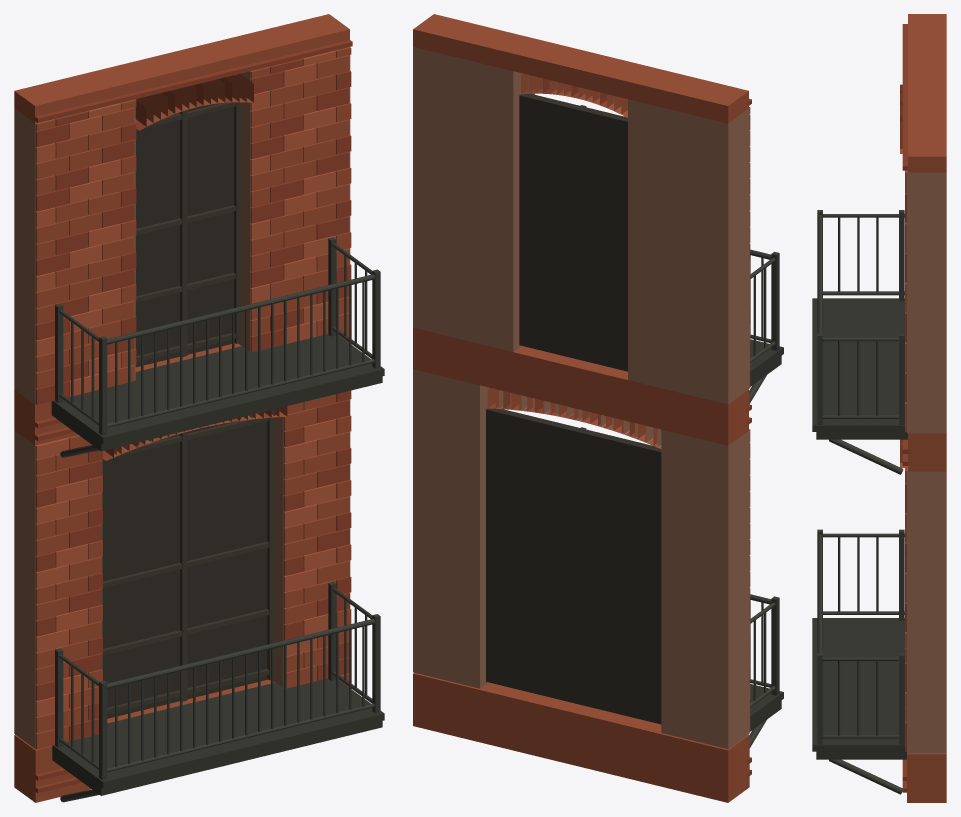
The model's file is jingan-ewo-packing-warehouse-river-balconies-raw.glb.
3 renders of one model, left to right at view 1: azimuth 30°, elevation 25°; view 2: azimuth 150°, elevation 25°; view 3: azimuth 270°, elevation 25°, orthographic. The views are drawn at different scales.
Visible parts, largest first — view 1: 怡和源打包厂沿河立面上下两层铁阳台; view 2: 怡和源打包厂沿河立面上下两层铁阳台; view 3: 怡和源打包厂沿河立面上下两层铁阳台.
Part boxes in pixels (x1,y1,x2,y2): 怡和源打包厂沿河立面上下两层铁阳台: (14, 14, 384, 802); 怡和源打包厂沿河立面上下两层铁阳台: (413, 14, 783, 802); 怡和源打包厂沿河立面上下两层铁阳台: (812, 14, 946, 802).
Size of the model in its own units: 2.64 by 5.6 by 1.05.
